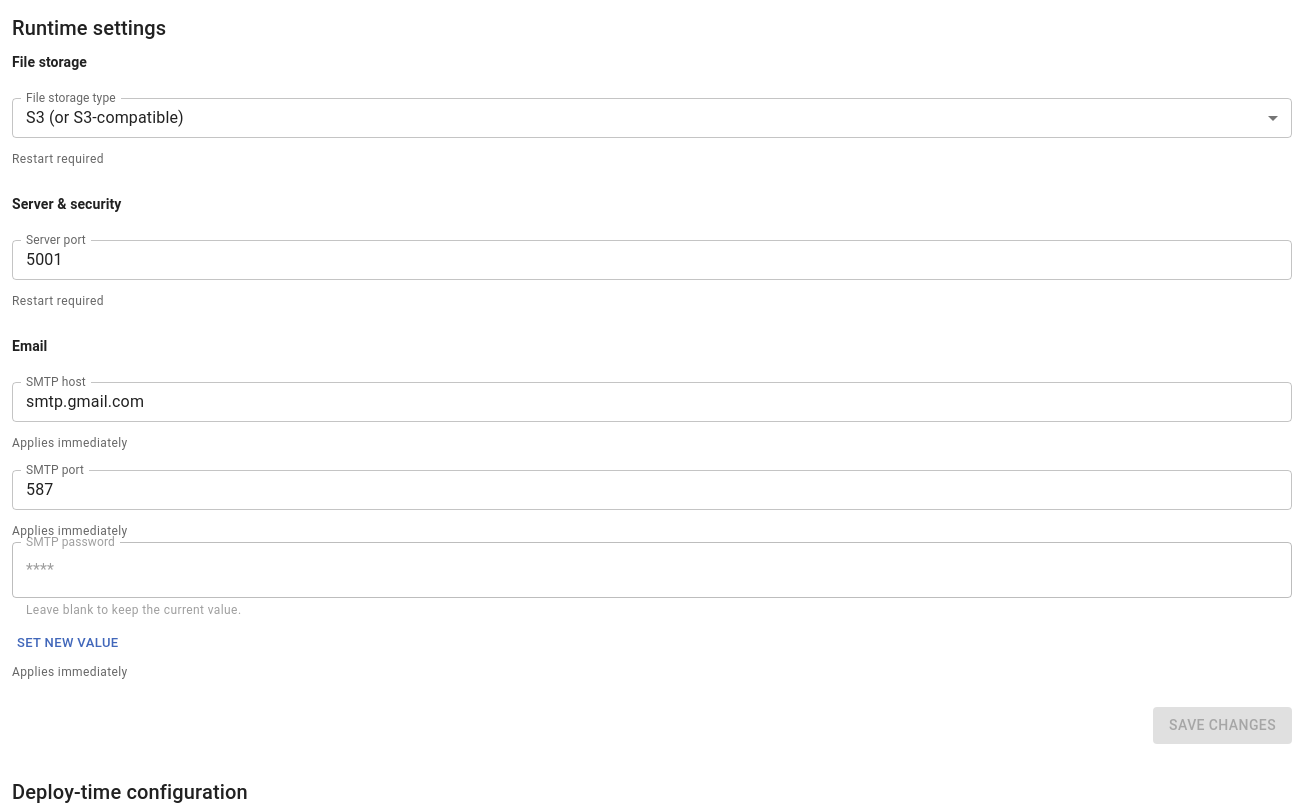
it: SystemConfigEditor › shows a restart-required banner listing T1 keys after save
Step 1. Replace the text in the number field labelled "Server port" with "6000" → (652, 260), box top-left (12, 240), bottom-right (1292, 280)
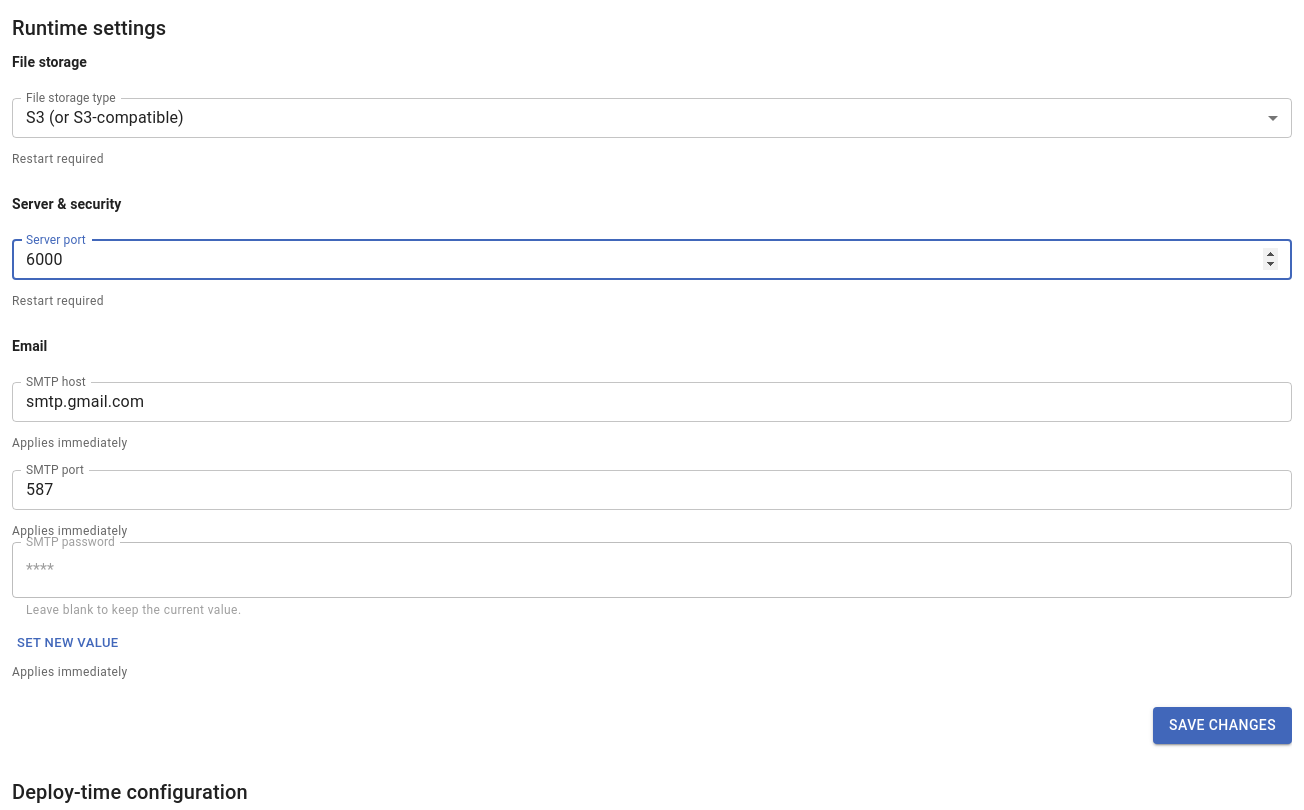
Step 2. Click the button "Save changes" → click(1223, 725), box top-left (1153, 707), bottom-right (1292, 744)
(page scrolled)
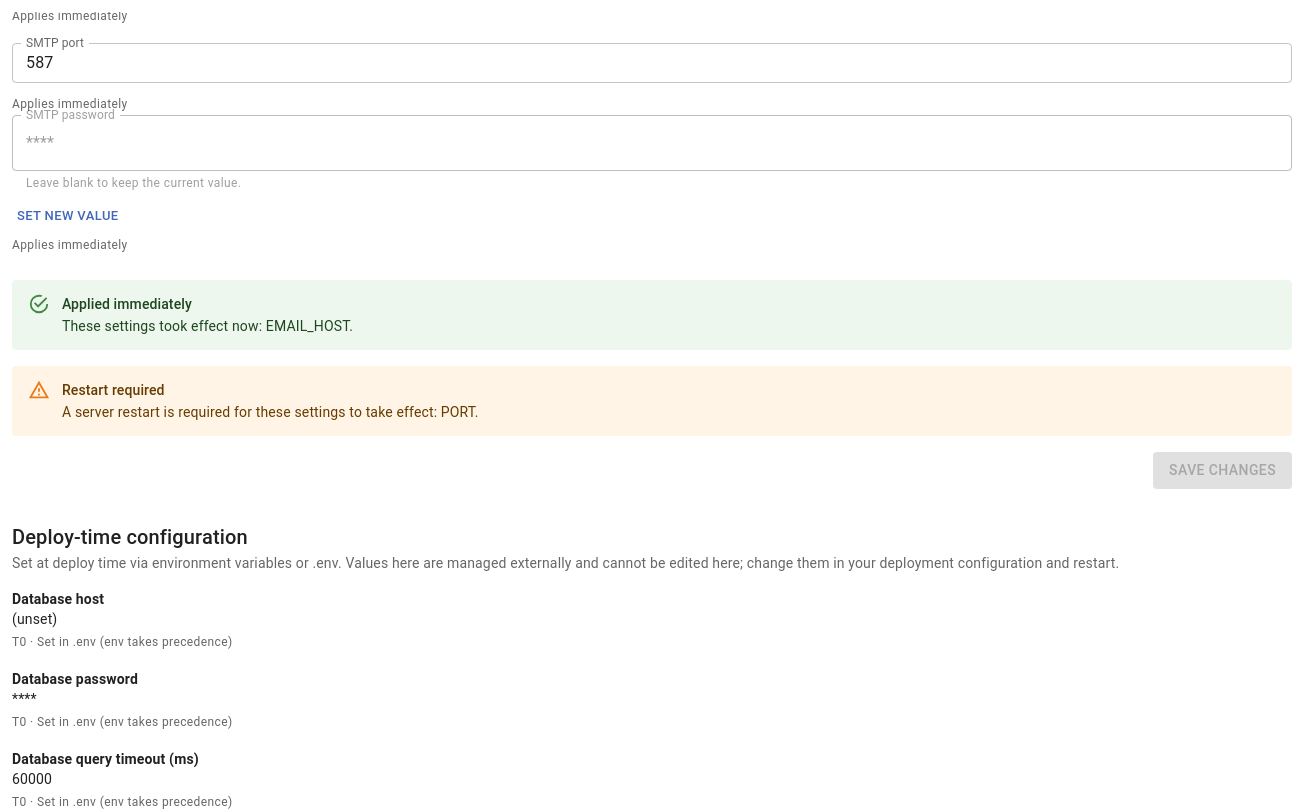
Expected: the message with test id "config-restart-banner" is shown, top-left (12, 366), bottom-right (1292, 436)
Expected: the text "PORT" is shown, top-left (62, 404), bottom-right (479, 420)
